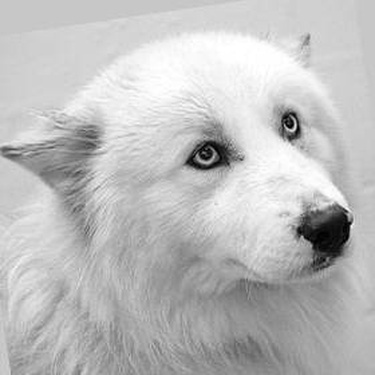dog: (5, 20, 368, 370)
